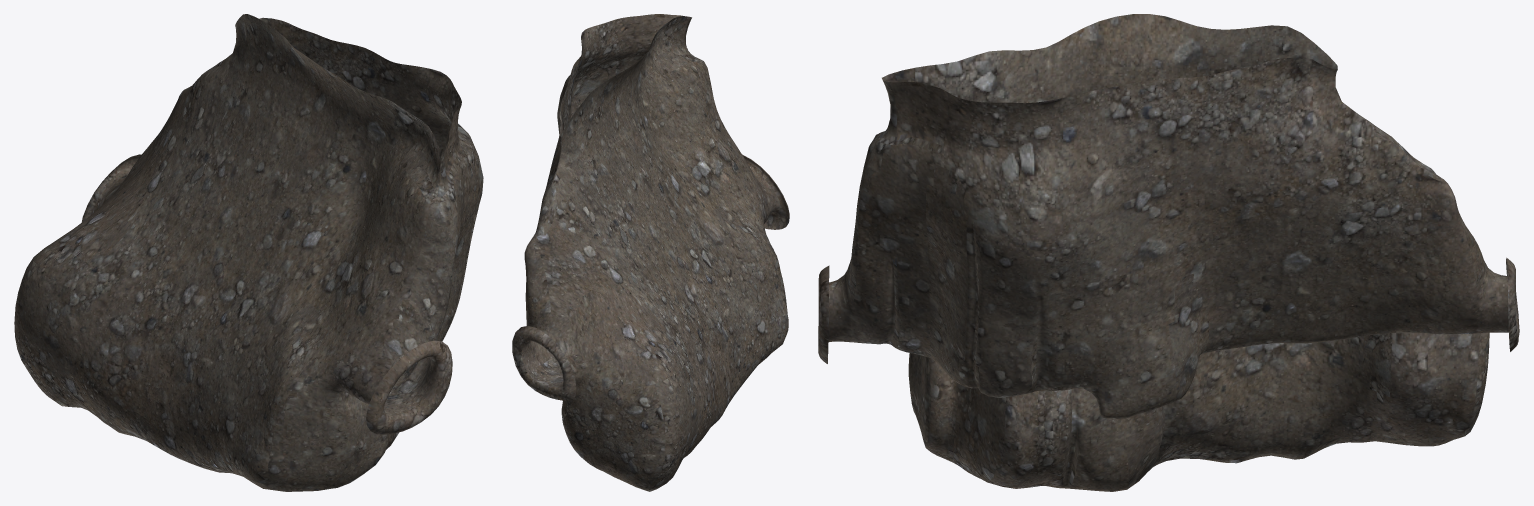
The model's file is cave_chamber_02.dae.
3 renders of one model, left to right at view 1: azimuth 30°, elevation 25°; view 2: azimuth 150°, elevation 25°; view 3: azimuth 270°, elevation 25°, orthographic. The views are drawn at different scales.
Parts seen in each view (by area): view 1: chamber_02; view 2: chamber_02; view 3: chamber_02.
Boxes of the visible parts, box(x1,y1,x2,y2) form: chamber_02: box(14, 14, 483, 491); chamber_02: box(512, 14, 789, 491); chamber_02: box(818, 14, 1519, 491).
Size of what is drawn, in the model's own units: 26.93 by 34.75 by 43.56.
